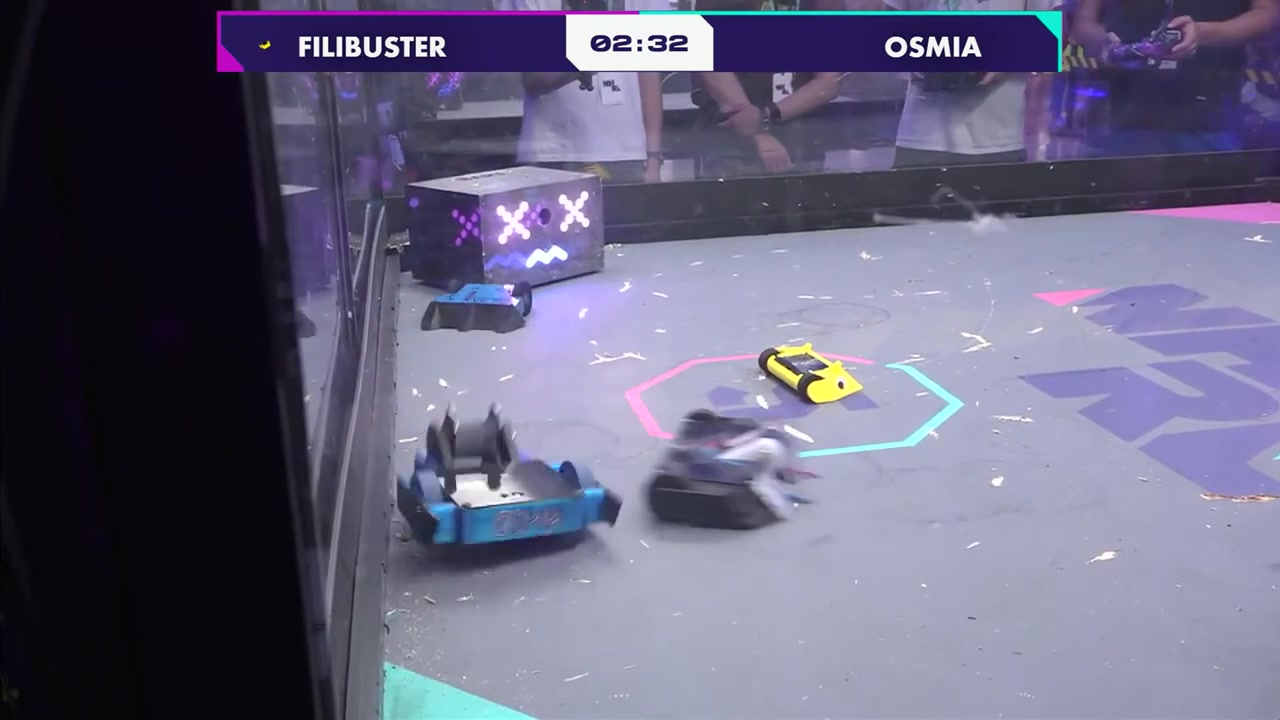combatbot: (397, 404, 618, 546), (645, 403, 825, 535), (423, 280, 535, 334)
housebot: (409, 165, 608, 292)
minibot: (754, 344, 865, 404)
